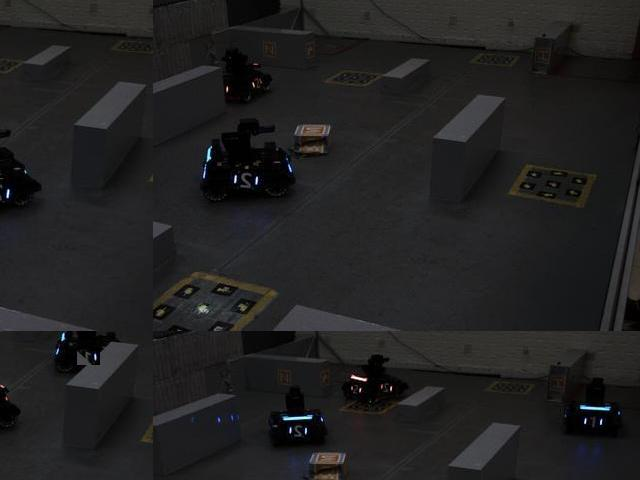armor: (230, 170, 265, 195), (284, 423, 313, 440), (580, 413, 605, 432), (77, 348, 101, 367), (247, 72, 266, 95), (0, 179, 16, 206), (379, 380, 398, 397), (345, 381, 366, 395)
